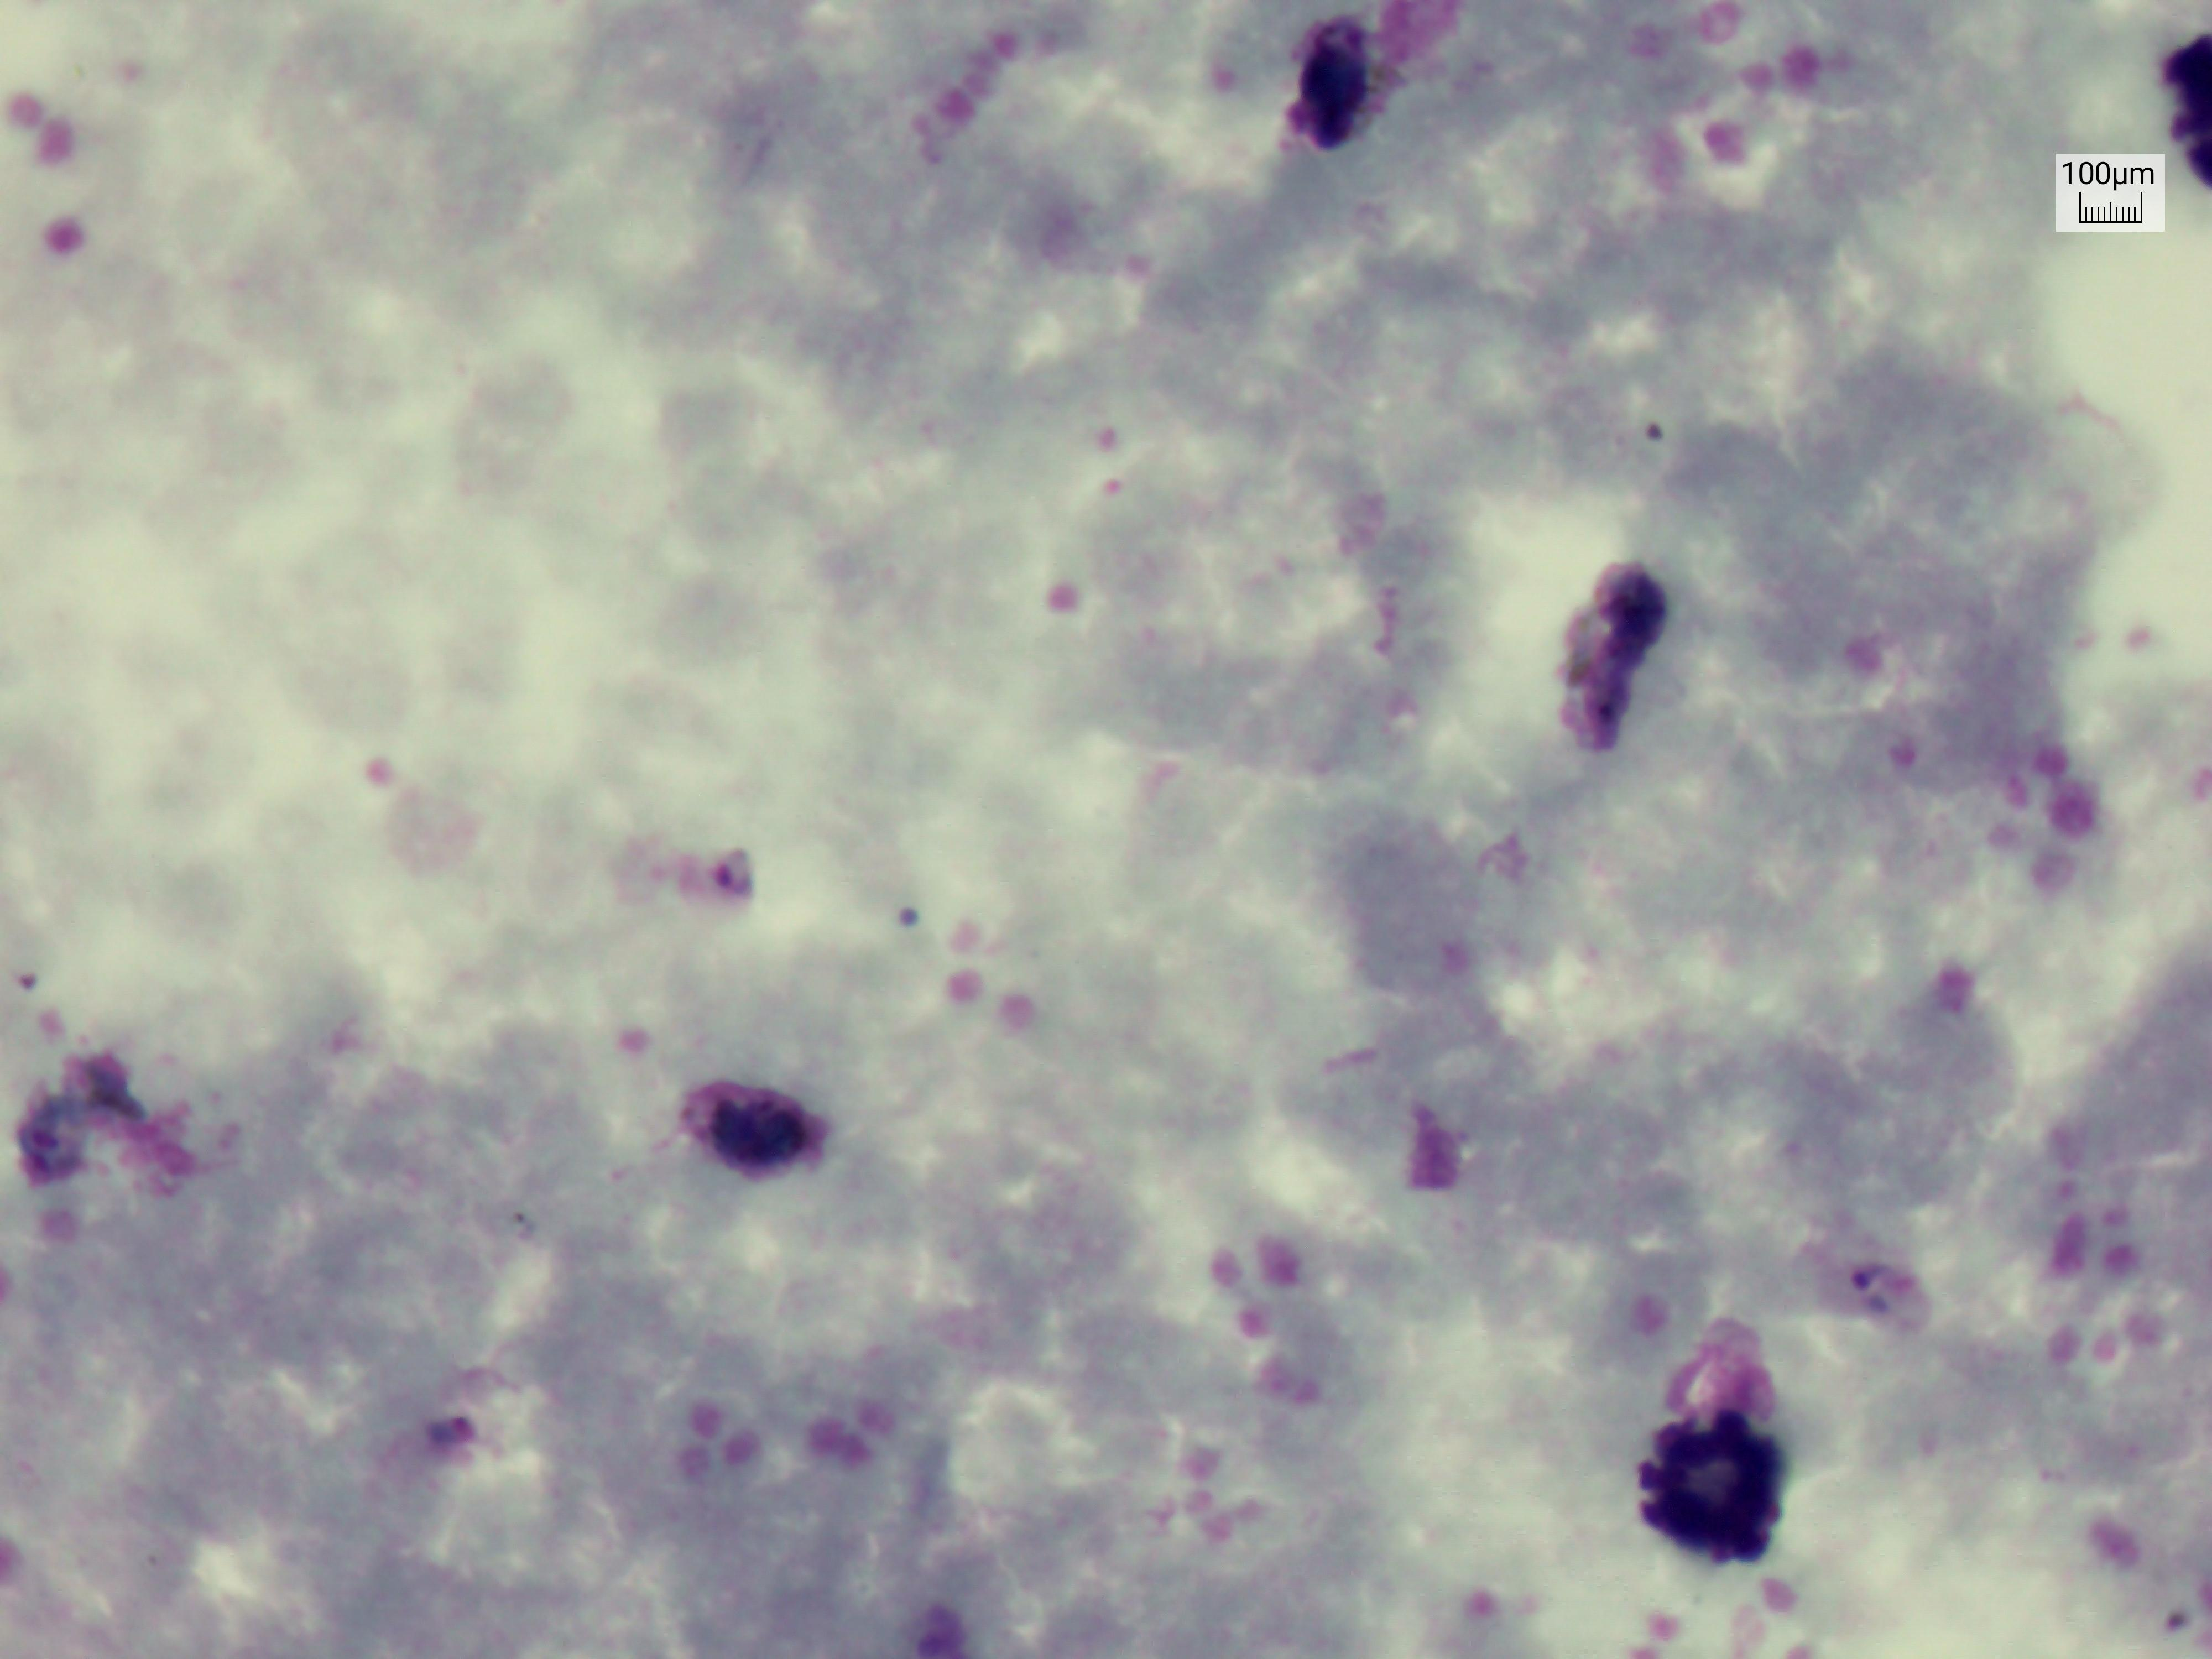p.vivax: (1581, 556, 1670, 774), (693, 1101, 819, 1185), (1322, 14, 1379, 157), (409, 1399, 498, 1481), (1846, 1263, 1928, 1342), (17, 1110, 105, 1183), (702, 842, 772, 910)
